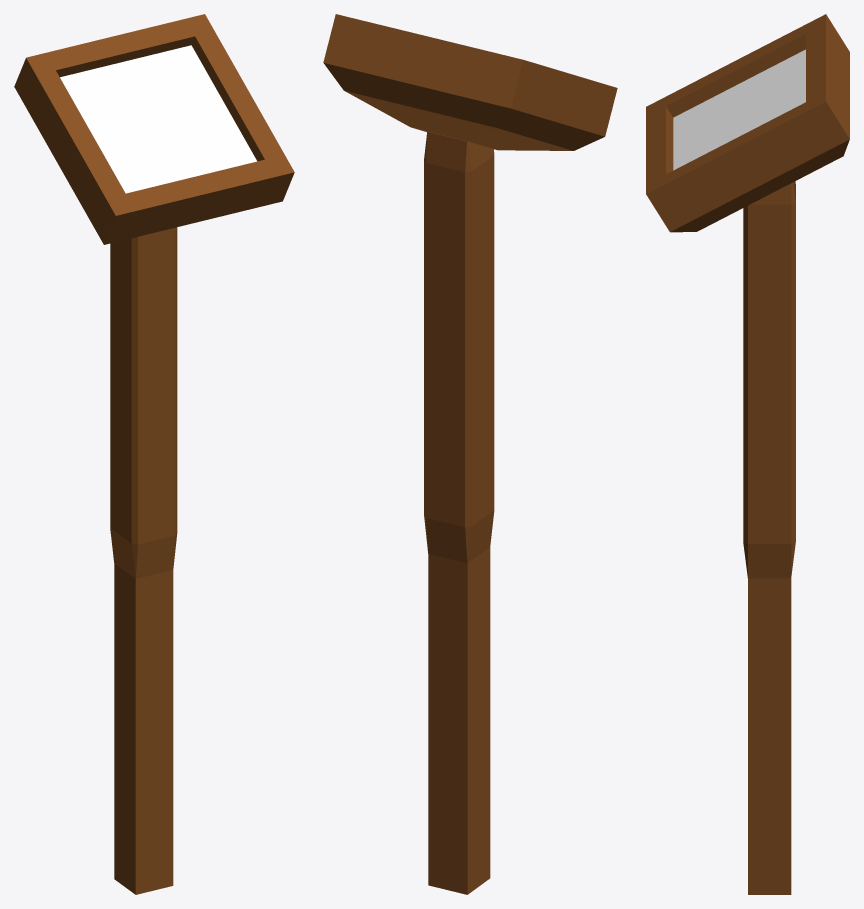
The model's file is post.gltf.
The picture shows the model from 3 angles, left to right: view 1: azimuth 30°, elevation 25°; view 2: azimuth 150°, elevation 25°; view 3: azimuth 270°, elevation 25°; orthographic projection. The views are drawn at different scales.
Visible parts, largest first — view 1: Cube, Plane; view 2: Cube, Plane; view 3: Cube, Plane.
Part boxes in pixels (left/top/right/bottom): Cube: left=110, top=227, right=177, bottom=894; Plane: left=14, top=14, right=294, bottom=244; Cube: left=424, top=132, right=494, bottom=894; Plane: left=323, top=14, right=617, bottom=150; Cube: left=743, top=181, right=795, bottom=894; Plane: left=646, top=14, right=849, bottom=232.
Size of the model in its own units: 1.34 by 5.93 by 1.32.
